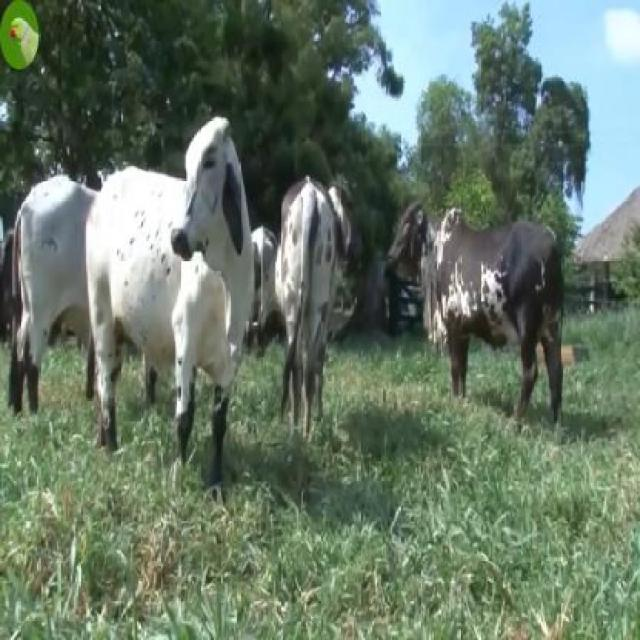Cow: (88, 116, 254, 462), (389, 197, 565, 431), (275, 178, 360, 432)
